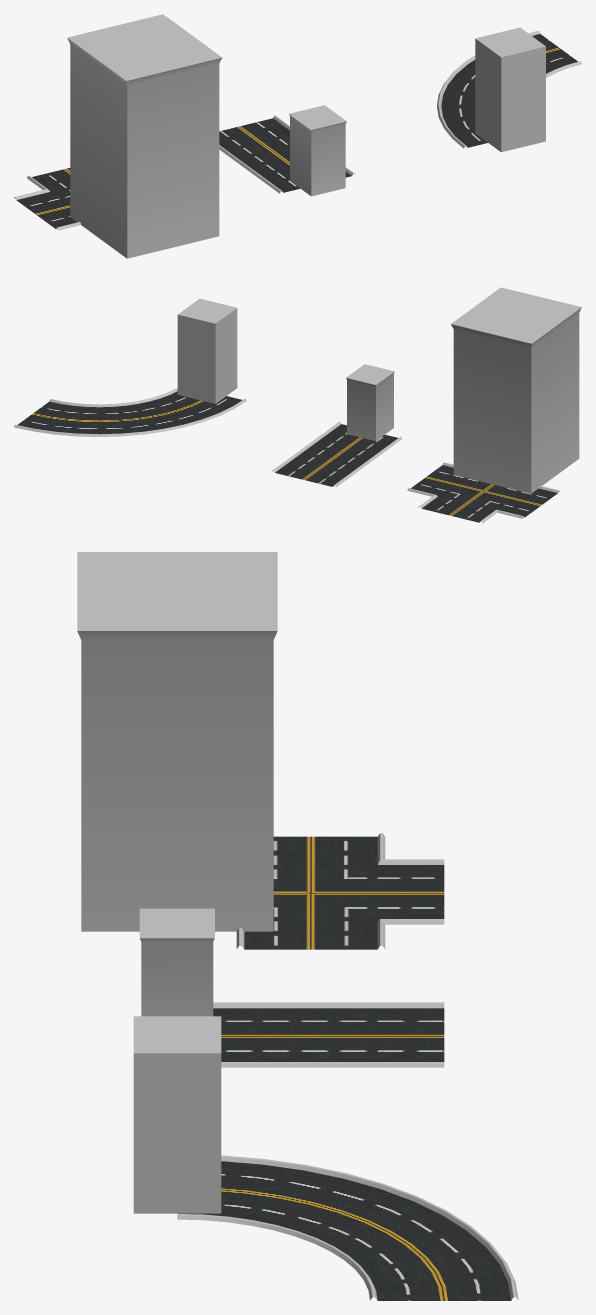
File: BUILDINGS & ROAD.fbx
The picture shows the model from 3 angles, top to bottom: view 1: azimuth 30°, elevation 25°; view 2: azimuth 150°, elevation 25°; view 3: azimuth 270°, elevation 25°; orthographic projection. The views are drawn at different scales.
Visible parts, largest first — view 1: BUILDING_1, BUILDING_3, BUILDING_2, ROAD_1, ROAD_2, ROAD_3, SIDE_BLOCK_ROAD_2, SIDE_BLOCK_ROAD_1, SIDE_BLOCK_ROAD_3; view 2: BUILDING_1, BUILDING_3, ROAD_2, ROAD_3, ROAD_1, BUILDING_2, SIDE_BLOCK_ROAD_2, SIDE_BLOCK_ROAD_1, SIDE_BLOCK_ROAD_3; view 3: BUILDING_1, ROAD_2, BUILDING_3, ROAD_3, ROAD_1, BUILDING_2, SIDE_BLOCK_ROAD_2, SIDE_BLOCK_ROAD_1, SIDE_BLOCK_ROAD_3.
Part boxes in pixels (x1=…): BUILDING_1: x1=67, y1=14, x2=222, y2=258; BUILDING_3: x1=475, y1=27, x2=545, y2=152; BUILDING_2: x1=289, y1=105, x2=346, y2=196; ROAD_1: x1=219, y1=118, x2=351, y2=192; ROAD_2: x1=441, y1=34, x2=577, y2=147; ROAD_3: x1=16, y1=168, x2=76, y2=228; SIDE_BLOCK_ROAD_2: x1=437, y1=30, x2=581, y2=148; SIDE_BLOCK_ROAD_1: x1=219, y1=115, x2=355, y2=193; SIDE_BLOCK_ROAD_3: x1=14, y1=175, x2=80, y2=230; BUILDING_1: x1=451, y1=287, x2=581, y2=493; BUILDING_3: x1=177, y1=298, x2=237, y2=403; ROAD_2: x1=18, y1=391, x2=242, y2=434; ROAD_3: x1=411, y1=465, x2=557, y2=522; ROAD_1: x1=275, y1=424, x2=397, y2=486; BUILDING_2: x1=346, y1=364, x2=394, y2=440; SIDE_BLOCK_ROAD_2: x1=14, y1=388, x2=246, y2=436; SIDE_BLOCK_ROAD_1: x1=272, y1=421, x2=402, y2=487; SIDE_BLOCK_ROAD_3: x1=407, y1=462, x2=559, y2=523; BUILDING_1: x1=77, y1=552, x2=277, y2=931; ROAD_2: x1=179, y1=1161, x2=510, y2=1300; BUILDING_3: x1=133, y1=1016, x2=221, y2=1213; ROAD_3: x1=244, y1=836, x2=444, y2=949; ROAD_1: x1=213, y1=1008, x2=444, y2=1061; BUILDING_2: x1=139, y1=908, x2=214, y2=1016; SIDE_BLOCK_ROAD_2: x1=177, y1=1155, x2=518, y2=1300; SIDE_BLOCK_ROAD_1: x1=213, y1=1002, x2=444, y2=1067; SIDE_BLOCK_ROAD_3: x1=236, y1=833, x2=444, y2=949.
Size of the model in its own units: 6583 by 1999 by 2646.
